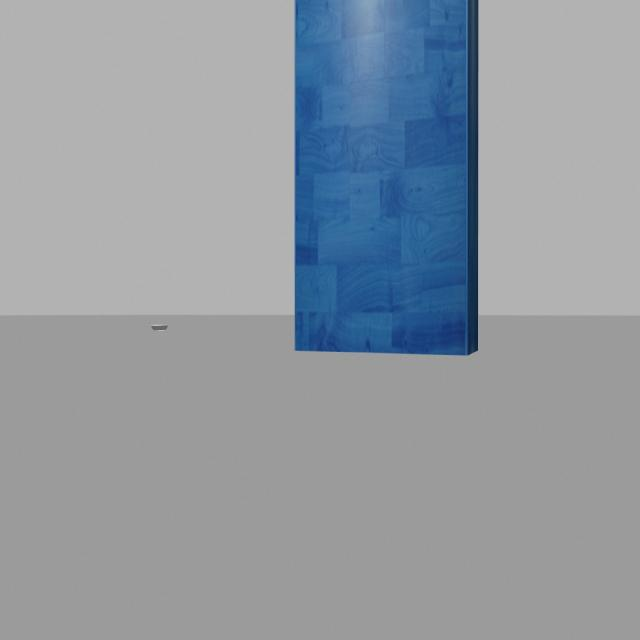bowl: (145, 312, 178, 338)
shelf: (282, 0, 497, 377)
